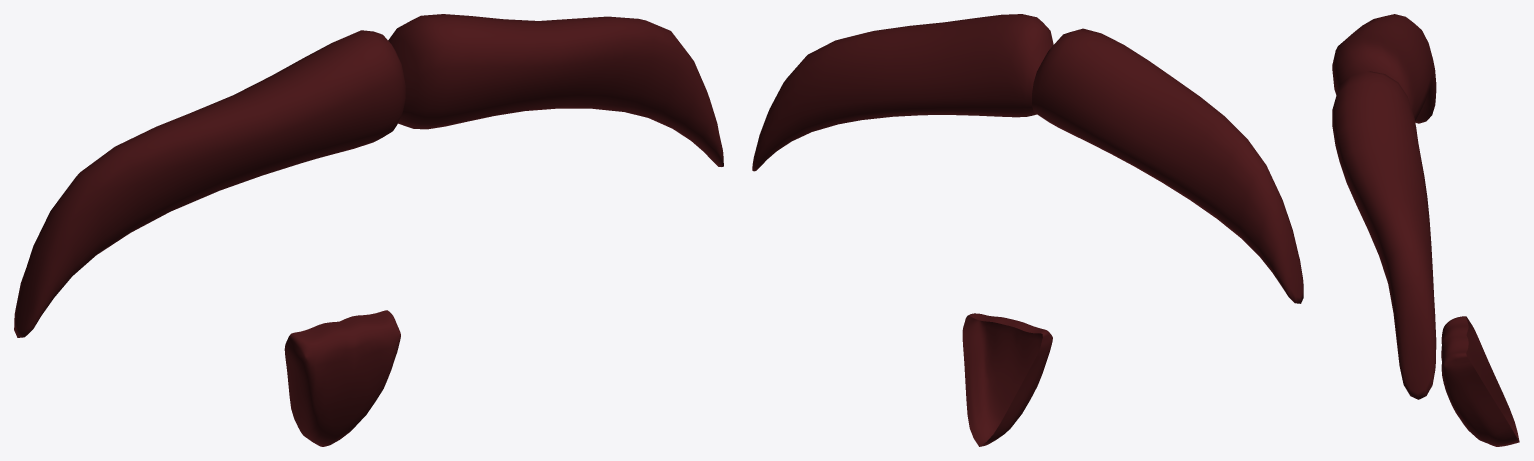
Rendered from facialhair_johnny.glb.
3 renders of one model, left to right at view 1: azimuth 30°, elevation 25°; view 2: azimuth 150°, elevation 25°; view 3: azimuth 270°, elevation 25°, orthographic. The views are drawn at different scales.
Visible parts, largest first — view 1: johnny; view 2: johnny; view 3: johnny.
Part boxes in pixels (bbox=[...]): johnny: bbox=[14, 14, 723, 446]; johnny: bbox=[752, 14, 1303, 446]; johnny: bbox=[1332, 14, 1519, 446].
Bounding box in the file's own units: 0.1542 × 0.1005 × 0.0441.
